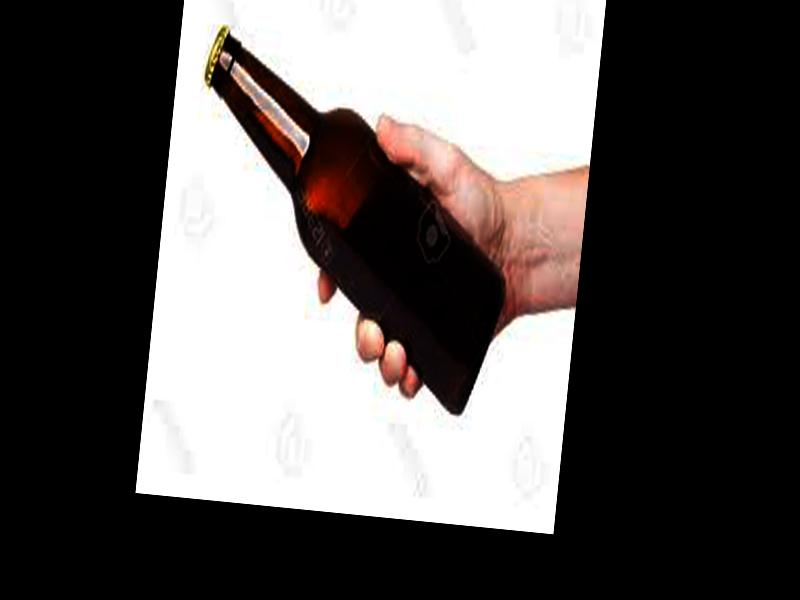Beer: (175, 23, 526, 414)
